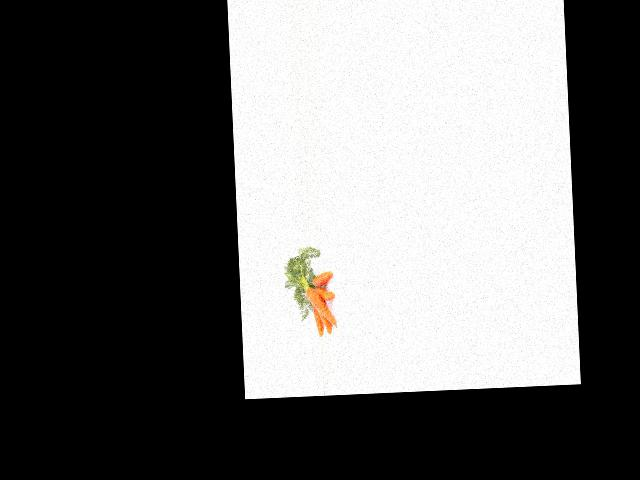carrot: (301, 280, 338, 327)
